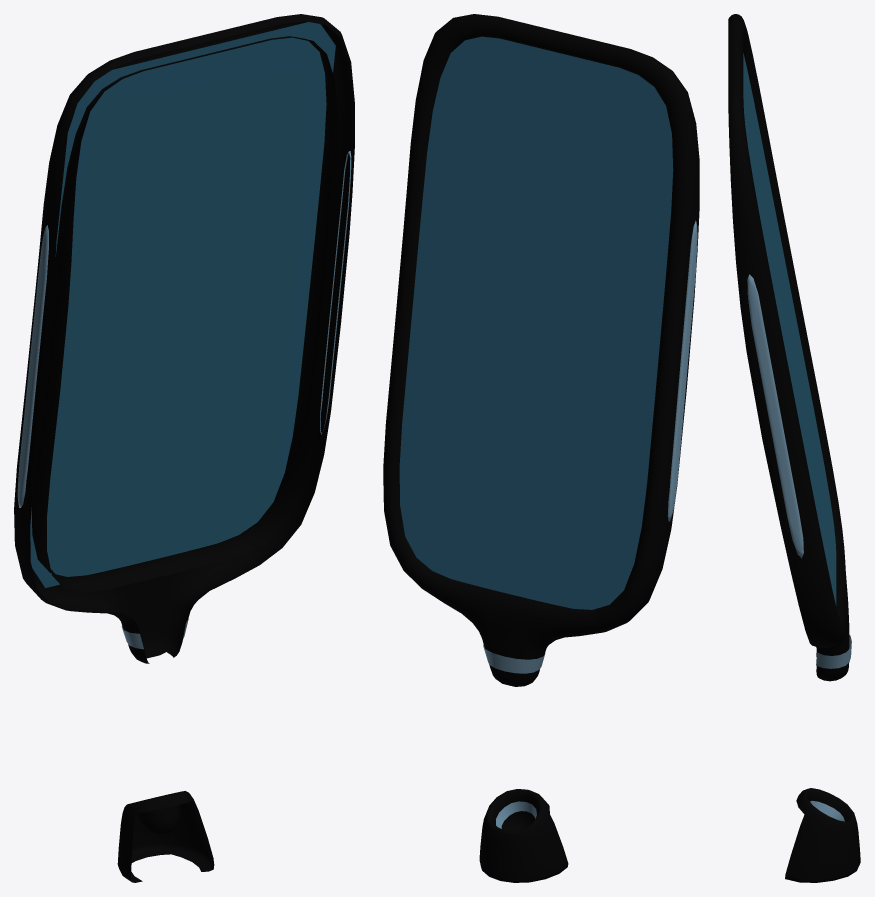
Rendered from centerconsole_timeline01.fbx.
3 views of the same model, side by side, from view 1: azimuth 30°, elevation 25°; view 2: azimuth 150°, elevation 25°; view 3: azimuth 270°, elevation 25° (orthographic). The views are drawn at different scales.
Visible parts, largest first — view 1: screen, body, base, lightBar2, lightBar3; view 2: screen, body, base, lightBar2, light_ring; view 3: body, screen, base, lightBar3, light_ring, base_light.
Part boxes in pixels (x1,y1,x2,y2): screen: [30, 22, 335, 587]; body: [14, 14, 354, 663]; base: [117, 791, 214, 882]; lightBar2: [17, 225, 48, 507]; lightBar3: [320, 151, 351, 434]; screen: [399, 36, 673, 609]; body: [383, 14, 699, 686]; base: [479, 789, 568, 882]; lightBar2: [667, 220, 697, 521]; light_ring: [483, 645, 545, 673]; body: [728, 14, 849, 681]; screen: [743, 53, 836, 605]; base: [785, 788, 860, 882]; lightBar3: [747, 274, 803, 558]; light_ring: [816, 635, 851, 668]; base_light: [810, 800, 844, 821].
Size of the model in its own units: 5.57 by 14.99 by 2.22.
